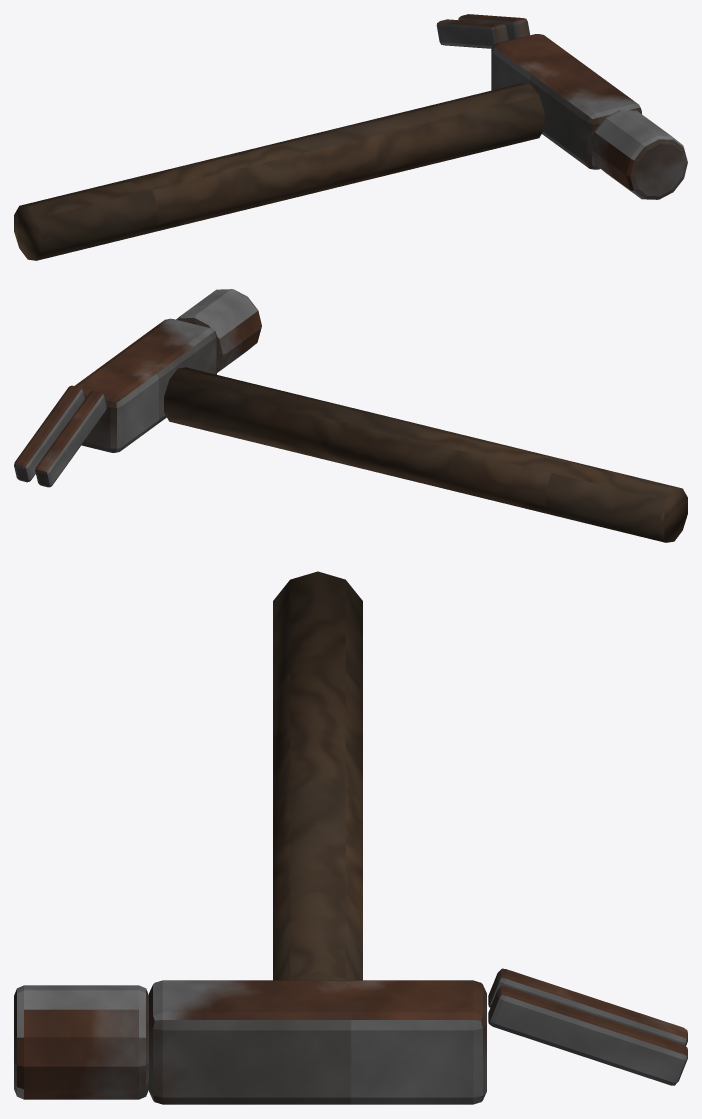
File: P09_claw_hammer.glb
3 renders of one model, top to bottom at view 1: azimuth 30°, elevation 25°; view 2: azimuth 150°, elevation 25°; view 3: azimuth 270°, elevation 25°, orthographic. The views are drawn at different scales.
Visible parts, largest first — view 1: P09_claw_hammer; view 2: P09_claw_hammer; view 3: P09_claw_hammer.
Boxes of the visible parts, x1,y1,x2,y2 form: P09_claw_hammer: (14,14,687,260); P09_claw_hammer: (14,289,687,542); P09_claw_hammer: (14,571,687,1104).
Bounding box in the file's own units: 0.35 × 0.0411 × 0.2203.
Materials: 2 (2 with a texture image).
